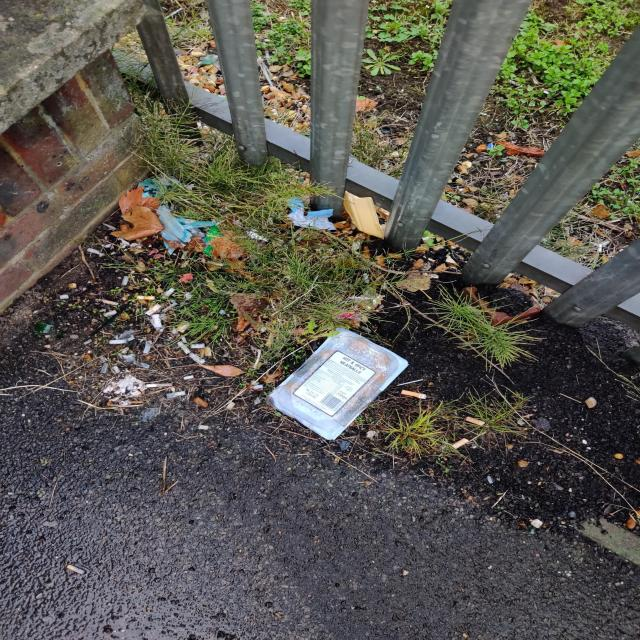litter: (248, 315, 431, 458)
